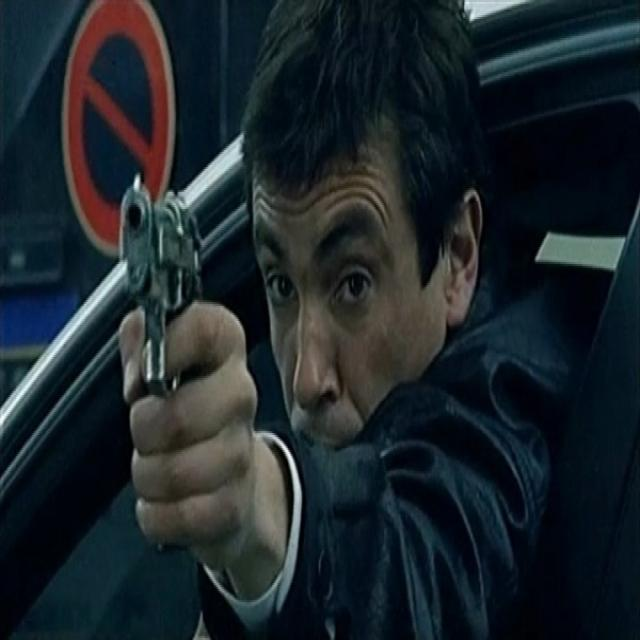weapons: (103, 154, 232, 472)
